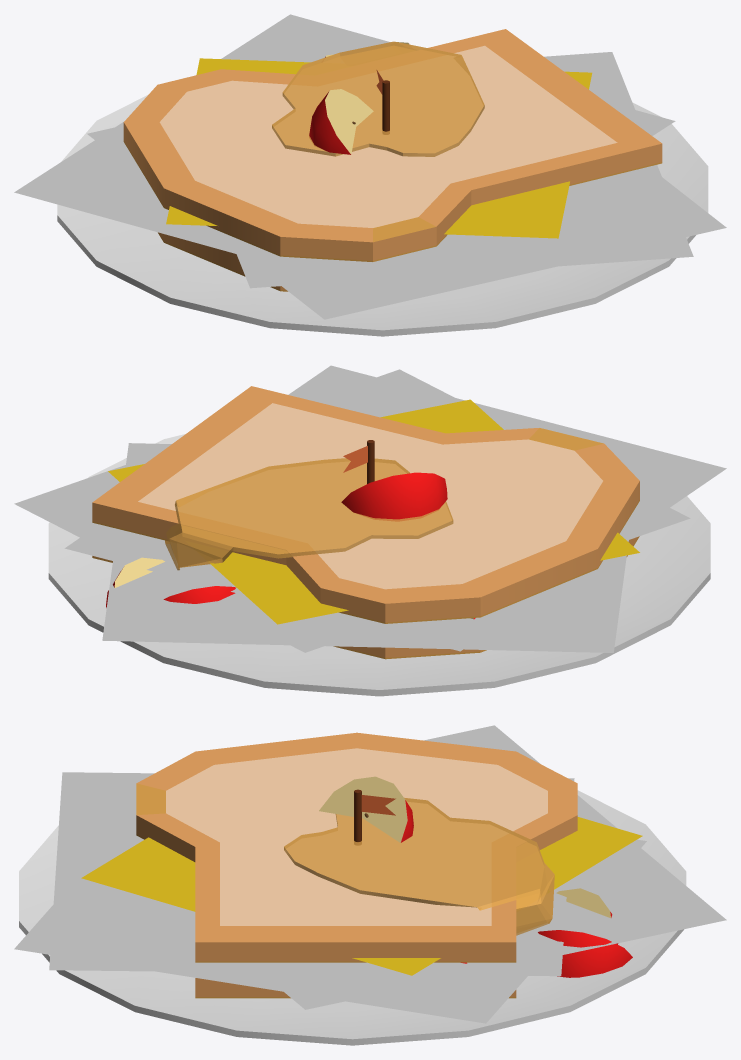
File: sand.FBX
The picture shows the model from 3 angles, top to bottom: view 1: azimuth 30°, elevation 25°; view 2: azimuth 150°, elevation 25°; view 3: azimuth 270°, elevation 25°; orthographic projection. The views are drawn at different scales.
Visible parts, largest first — view 1: Group002, Cylinder001, Plane001, Cylinder003, Plane002, Plane004, Plane003, Sphere014; view 2: Group002, Cylinder001, Plane002, Cylinder003, Plane001, Plane004, Plane003, Sphere014, Sphere004, Sphere001; view 3: Group002, Plane001, Cylinder001, Cylinder003, Plane002, Plane004, Plane003, Sphere014, Sphere001, Sphere004, Plane005.
Part boxes in pixels (<box>): Group002: <box>123,29,662,291</box>; Cylinder001: <box>57,95,708,336</box>; Plane001: <box>87,125,726,319</box>; Cylinder003: <box>272,41,484,156</box>; Plane002: <box>14,14,675,255</box>; Plane004: <box>166,58,592,238</box>; Plane003: <box>236,52,693,288</box>; Sphere014: <box>309,89,373,154</box>; Group002: <box>92,386,639,659</box>; Cylinder001: <box>48,434,710,696</box>; Plane002: <box>102,443,629,652</box>; Cylinder003: <box>165,458,453,570</box>; Plane001: <box>64,365,726,651</box>; Plane004: <box>108,399,639,624</box>; Plane003: <box>14,369,690,652</box>; Sphere014: <box>341,472,447,520</box>; Sphere004: <box>163,586,235,603</box>; Sphere001: <box>106,557,164,607</box>; Group002: <box>136,732,577,998</box>; Plane001: <box>49,772,574,976</box>; Cylinder001: <box>19,790,686,1045</box>; Cylinder003: <box>284,797,554,935</box>; Plane002: <box>261,725,726,1009</box>; Plane004: <box>81,817,642,975</box>; Plane003: <box>14,839,646,1023</box>; Sphere014: <box>319,776,413,842</box>; Sphere001: <box>538,930,632,977</box>; Sphere004: <box>556,888,618,944</box>; Plane005: <box>361,795,395,815</box>.
Size of the model in its own units: 111 by 24.01 by 113.
